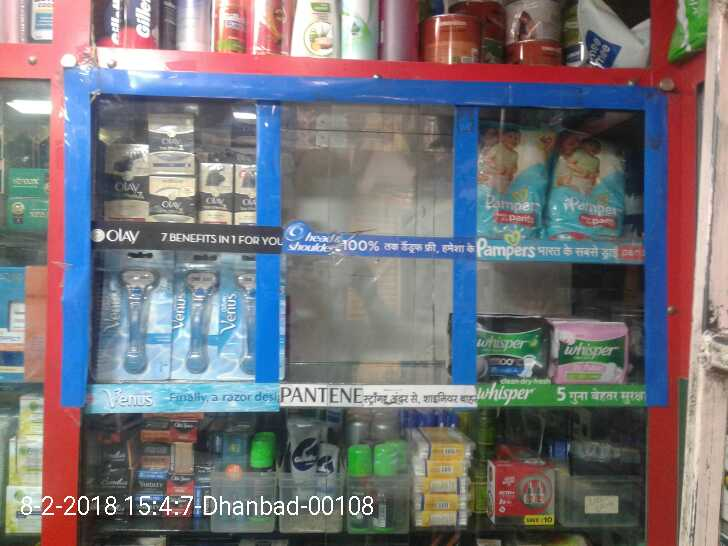gillete: (291, 415, 315, 519), (349, 445, 375, 528), (315, 446, 344, 519), (252, 442, 275, 528), (375, 447, 399, 528), (123, 1, 155, 49), (218, 1, 245, 52), (97, 1, 121, 45)
venus: (97, 248, 173, 381), (173, 248, 222, 376), (222, 260, 262, 376)
